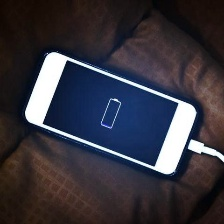phone: (17, 42, 205, 182)
